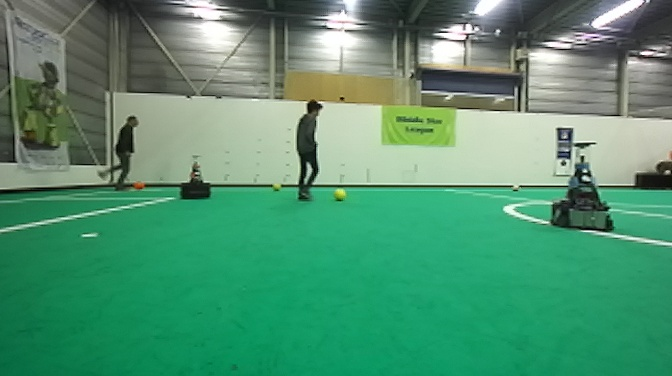ball: (331, 188, 347, 202), (270, 179, 284, 194), (133, 178, 145, 191), (510, 182, 522, 194)
human: (292, 97, 325, 203), (96, 115, 138, 191)
robot: (549, 139, 616, 232), (177, 153, 215, 201)
